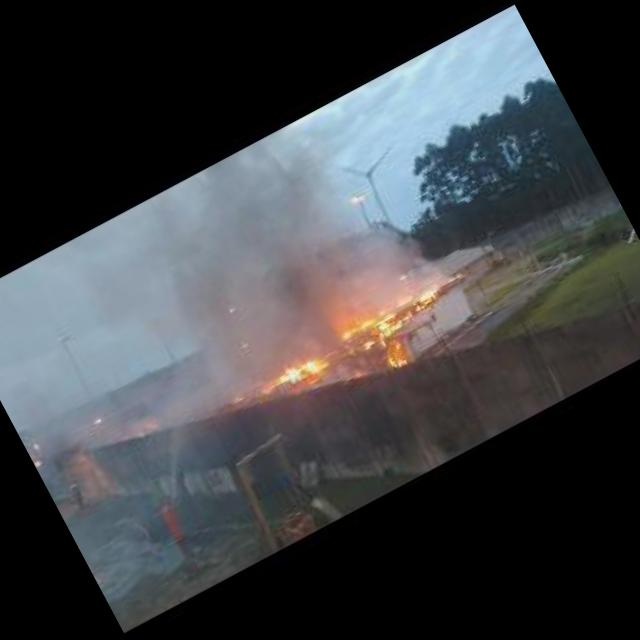fire: (370, 302, 420, 346), (273, 348, 326, 388), (412, 276, 444, 306), (342, 316, 376, 342), (384, 340, 411, 370), (228, 392, 246, 406), (397, 292, 414, 306), (258, 384, 273, 398), (144, 417, 160, 430), (364, 338, 378, 349), (379, 306, 389, 315)
smoke: (77, 103, 431, 420)
